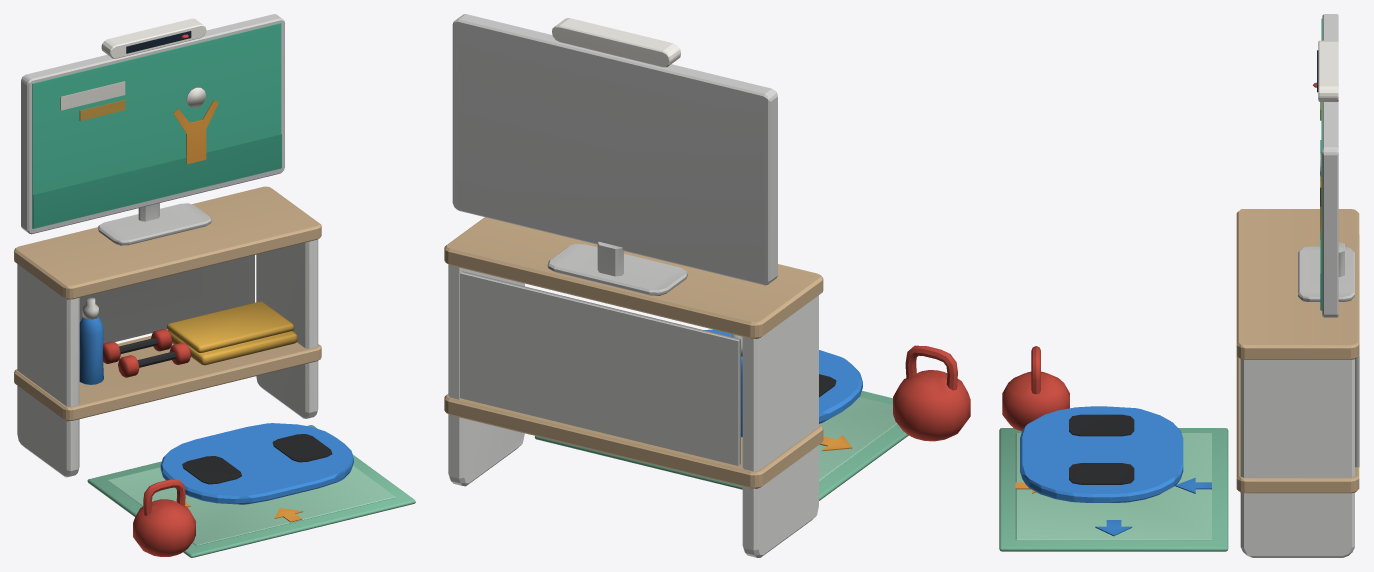
The model's file is fitnessGame.glb.
The picture shows the model from 3 angles, left to right: view 1: azimuth 30°, elevation 25°; view 2: azimuth 150°, elevation 25°; view 3: azimuth 270°, elevation 25°; orthographic projection. The views are drawn at different scales.
Visible parts, largest first — view 1: body, board; view 2: body, board; view 3: body, board.
Part boxes in pixels (x1,y1,x2,y2): body: (14,14,415,557); board: (160,423,353,504); body: (444,14,970,557); board: (704,329,862,423); body: (999,14,1359,557); board: (1020,406,1183,502).
Bounding box in the file's own units: 0.865 × 1.15 × 0.881.
